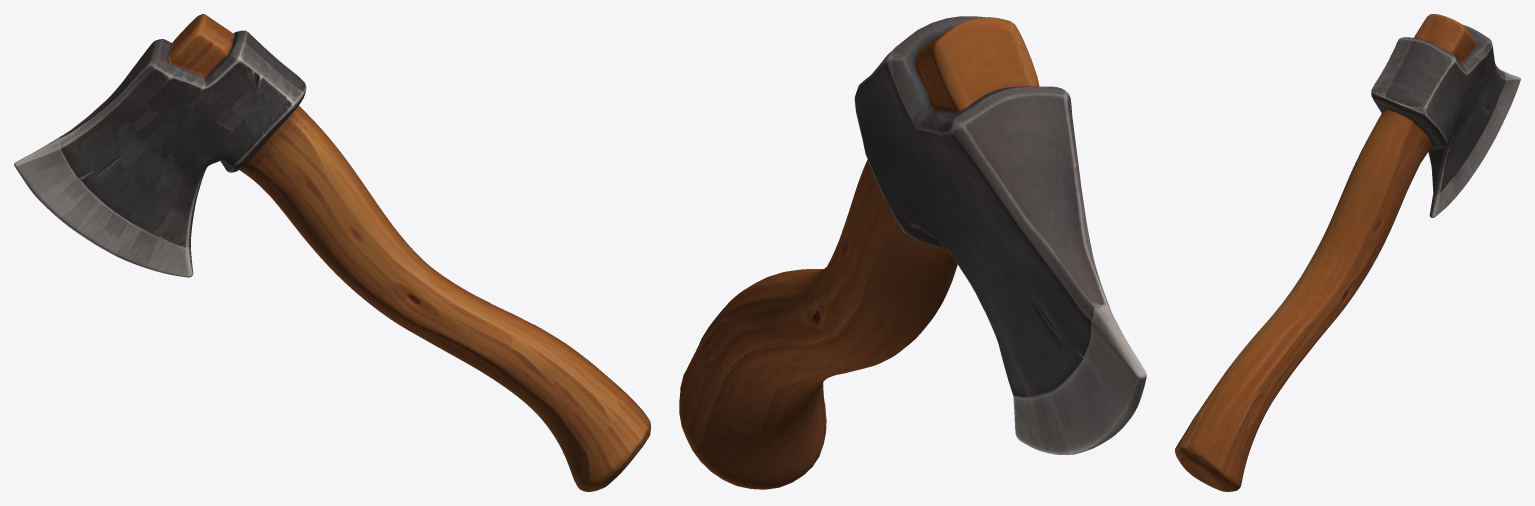
Rendered from axe.glb.
3 renders of one model, left to right at view 1: azimuth 30°, elevation 25°; view 2: azimuth 150°, elevation 25°; view 3: azimuth 270°, elevation 25°, orthographic. The views are drawn at different scales.
Visible parts, largest first — view 1: tripo_node_0c1ef1fa; view 2: tripo_node_0c1ef1fa; view 3: tripo_node_0c1ef1fa.
Boxes of the visible parts, bbox=[...] form: tripo_node_0c1ef1fa: bbox=[14, 14, 650, 491]; tripo_node_0c1ef1fa: bbox=[679, 16, 1146, 489]; tripo_node_0c1ef1fa: bbox=[1175, 14, 1520, 491].
Size of the model in its own units: 97.86 by 89.99 by 76.83.
Materials: 1 (1 with a texture image).
